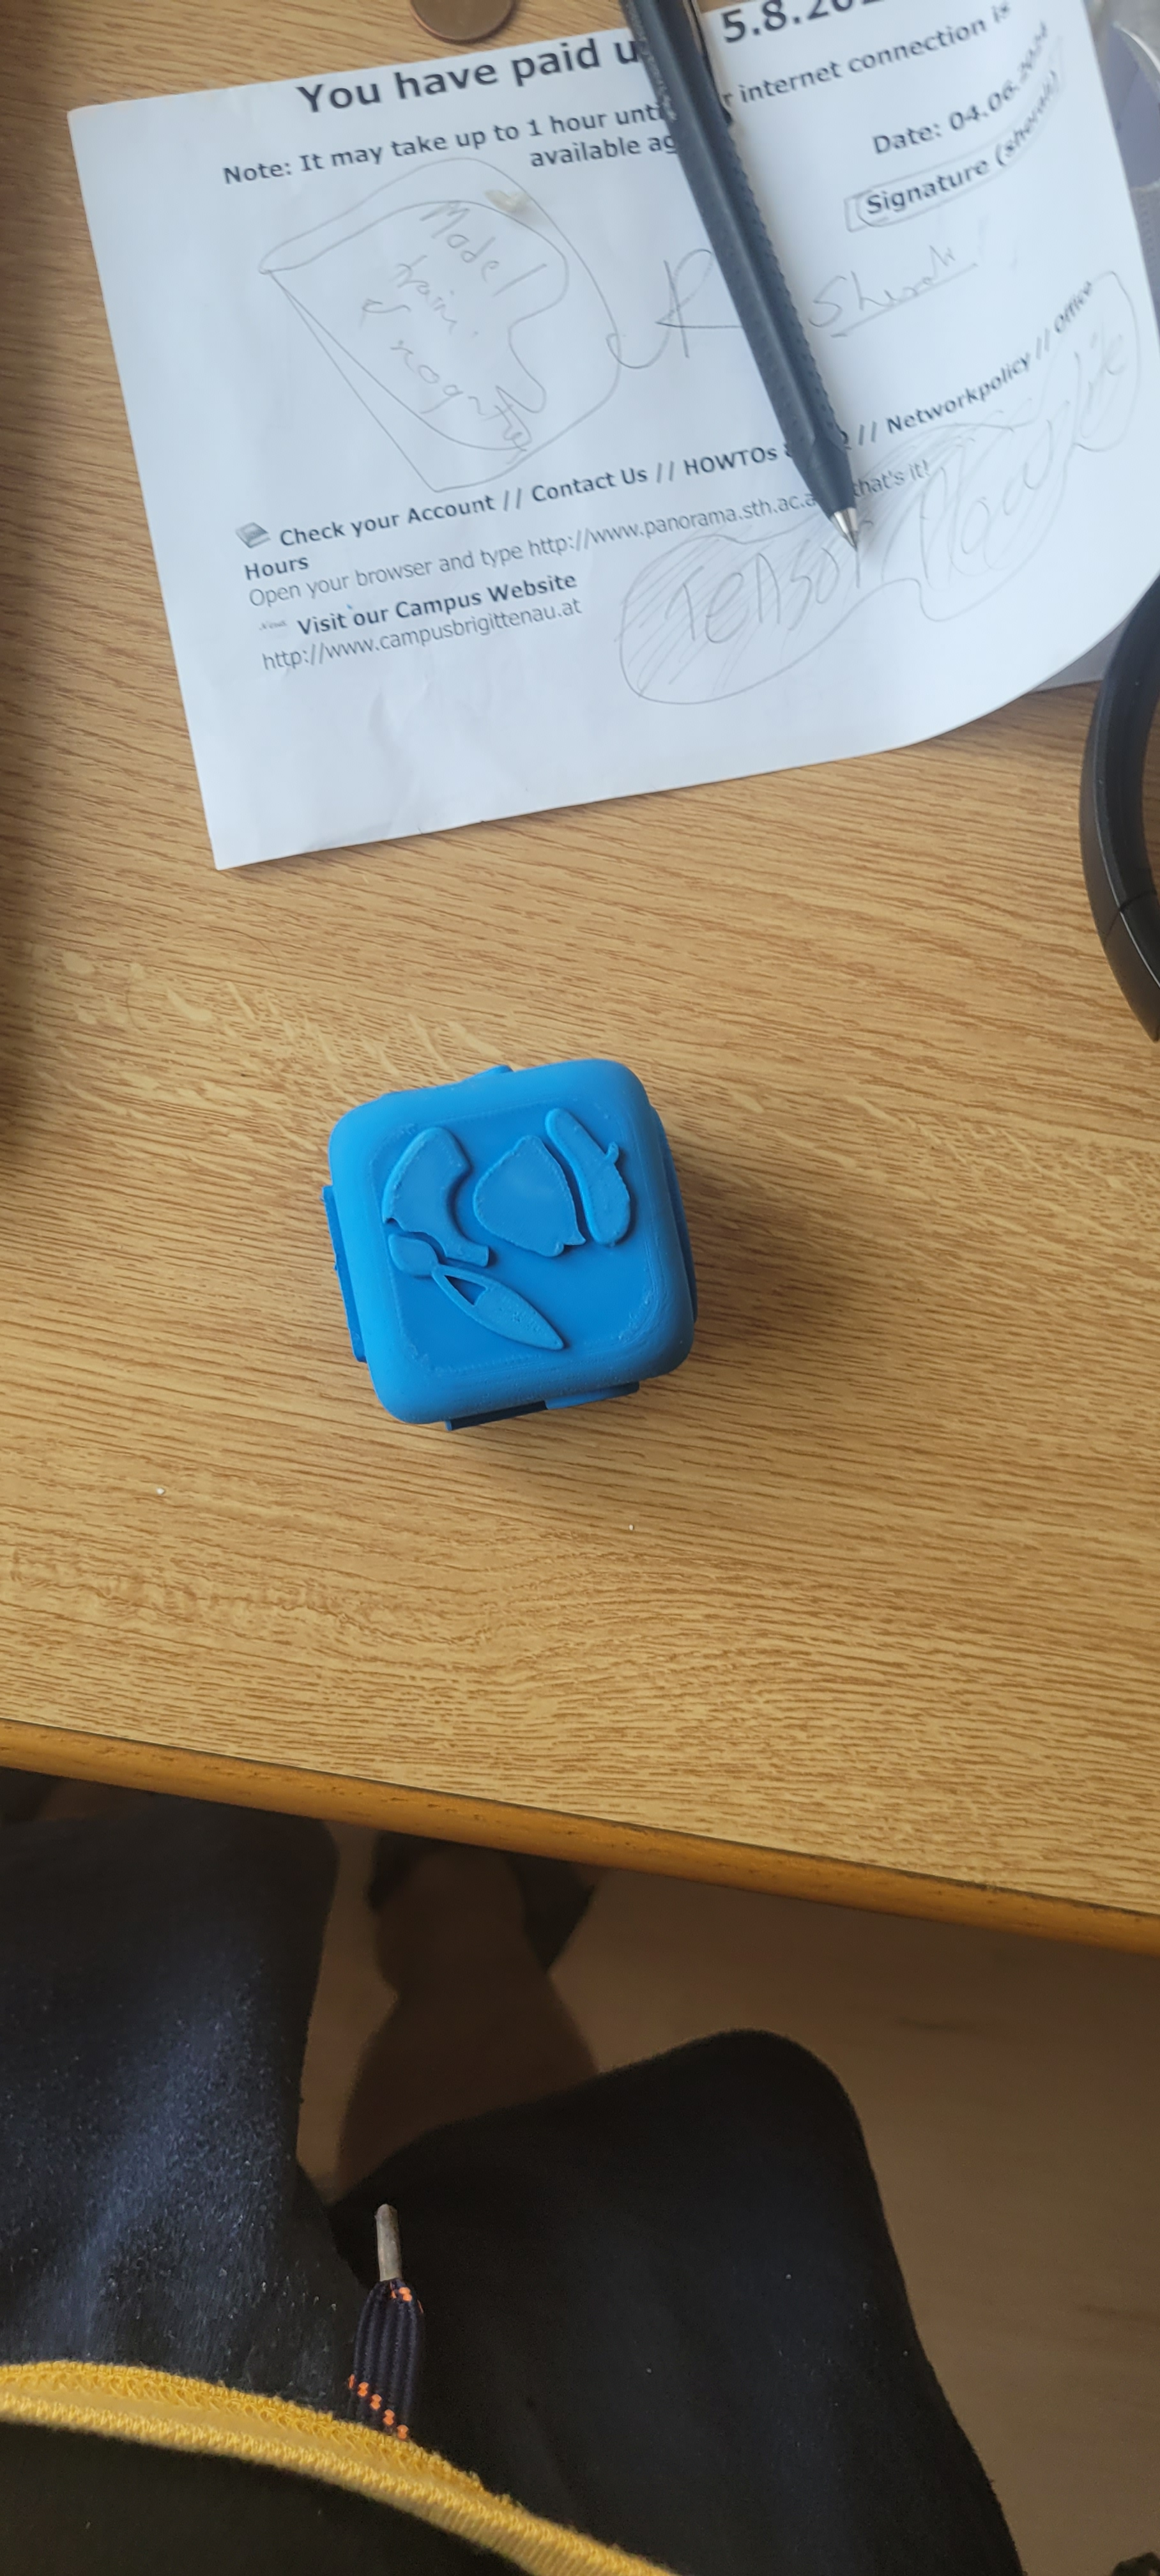Artist_Info: (334, 1053, 662, 1365)
